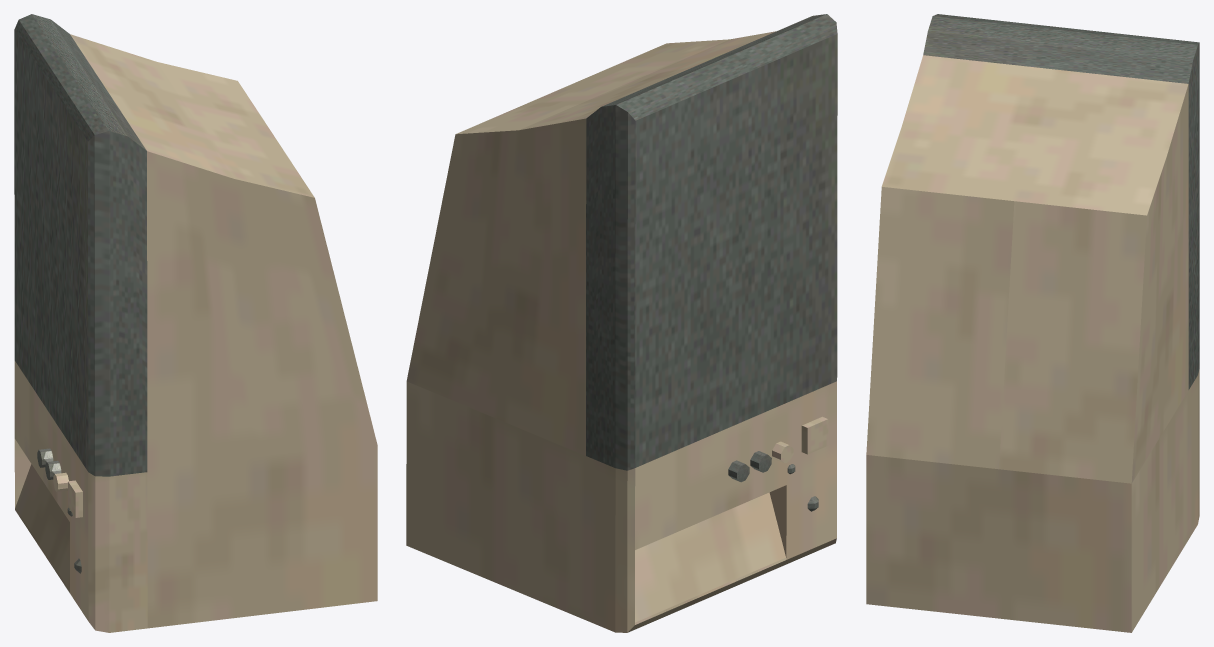
The model's file is object_18_lev1.glb.
3 renders of one model, left to right at view 1: azimuth 30°, elevation 25°; view 2: azimuth 150°, elevation 25°; view 3: azimuth 270°, elevation 25°, orthographic. The views are drawn at different scales.
Parts seen in each view (by area): view 1: object_18_lev1; view 2: object_18_lev1; view 3: object_18_lev1.
Boxes of the visible parts, bbox=[...] form: object_18_lev1: bbox=[14, 14, 377, 632]; object_18_lev1: bbox=[406, 14, 837, 632]; object_18_lev1: bbox=[866, 14, 1199, 632].
Size of the model in its own units: 0.3416 by 0.5234 by 0.3298.
Materials: 1 (1 with a texture image).
